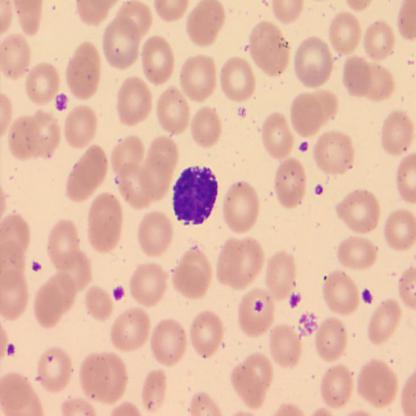Basophil: (172, 164, 220, 228)
